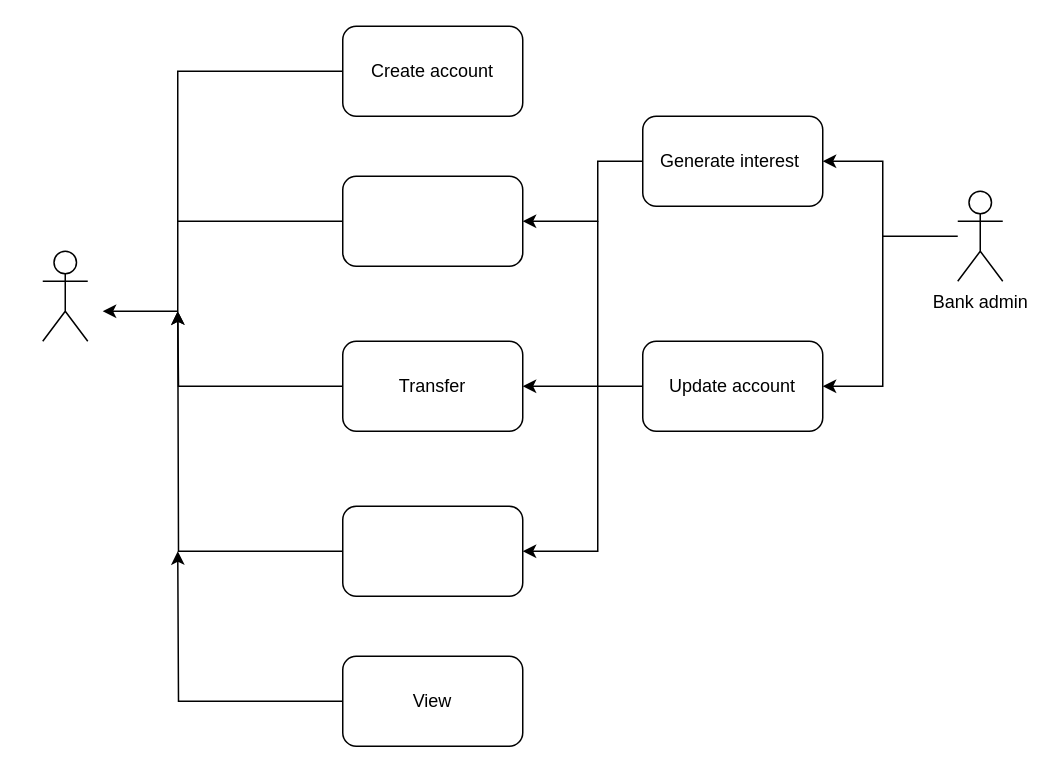
Some shapes in this 1053 by 773 pixel diagram are drawn without their labels. The box of each missing label's shape, as (x1, y1, x2, y2) in pixels:
Customer: (41, 250, 88, 341)
Deposit: (341, 175, 523, 266)
Withdraw: (341, 505, 523, 596)
